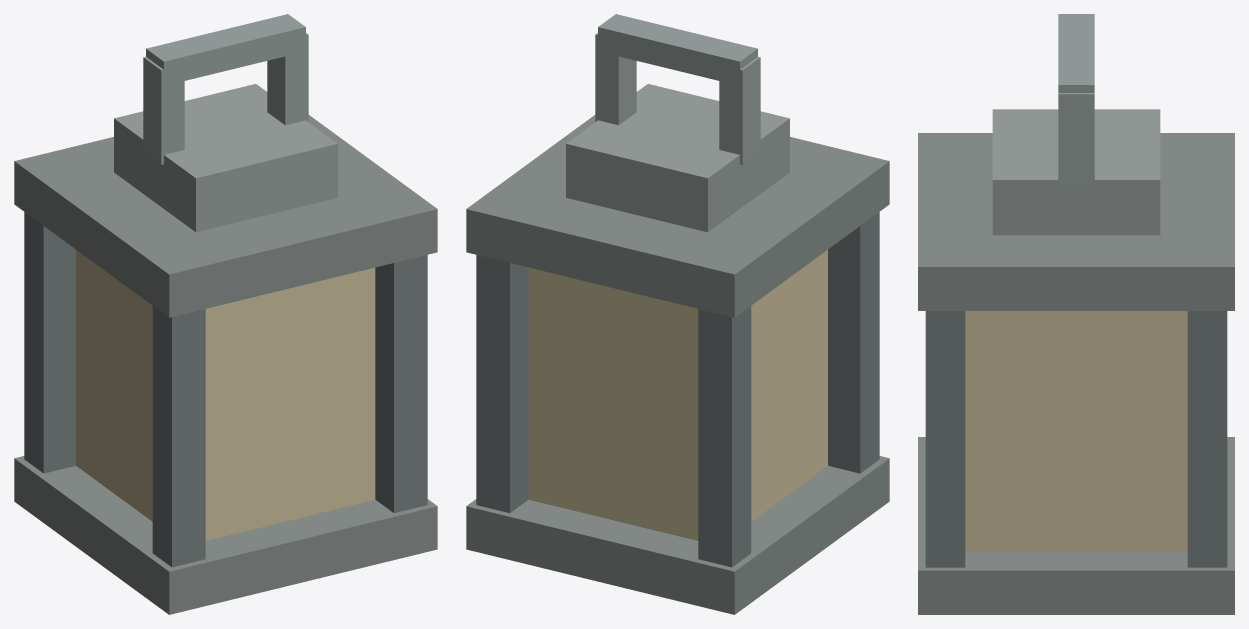
File: item_lantern.glb
3 views of the same model, side by side, from view 1: azimuth 30°, elevation 25°; view 2: azimuth 150°, elevation 25°; view 3: azimuth 270°, elevation 25° (orthographic). The views are drawn at different scales.
Visible parts, largest first — view 1: item_lantern; view 2: item_lantern; view 3: item_lantern.
Boxes of the visible parts, box(x1,y1,x2,y2) form: item_lantern: box(14, 14, 437, 614); item_lantern: box(466, 14, 889, 614); item_lantern: box(918, 14, 1234, 614).
Size of the model in its own units: 1.04 by 1.81 by 1.04.
